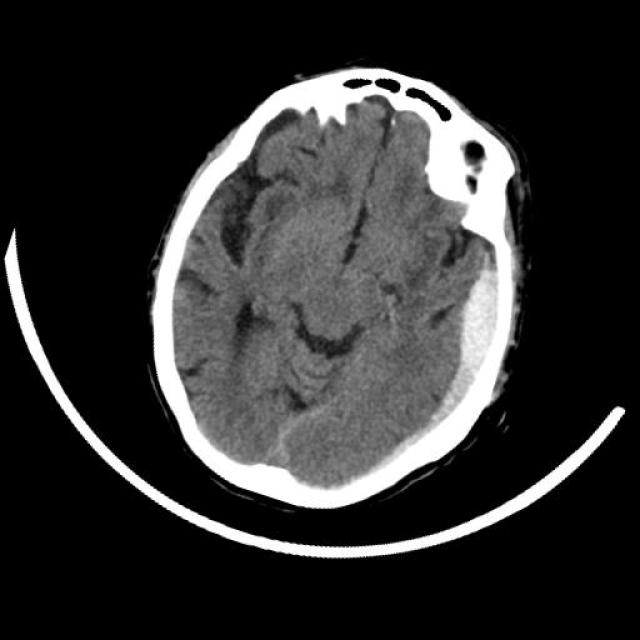Subdural: (306, 212, 560, 576)
